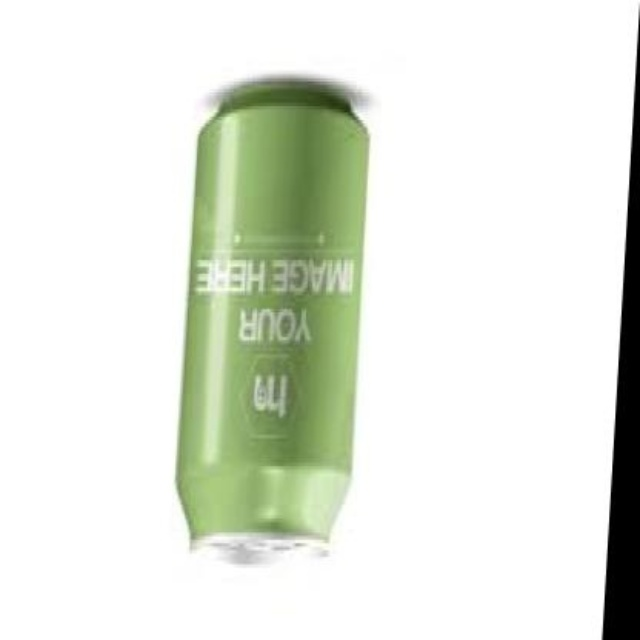trash: (177, 78, 368, 546), (603, 20, 638, 638)
